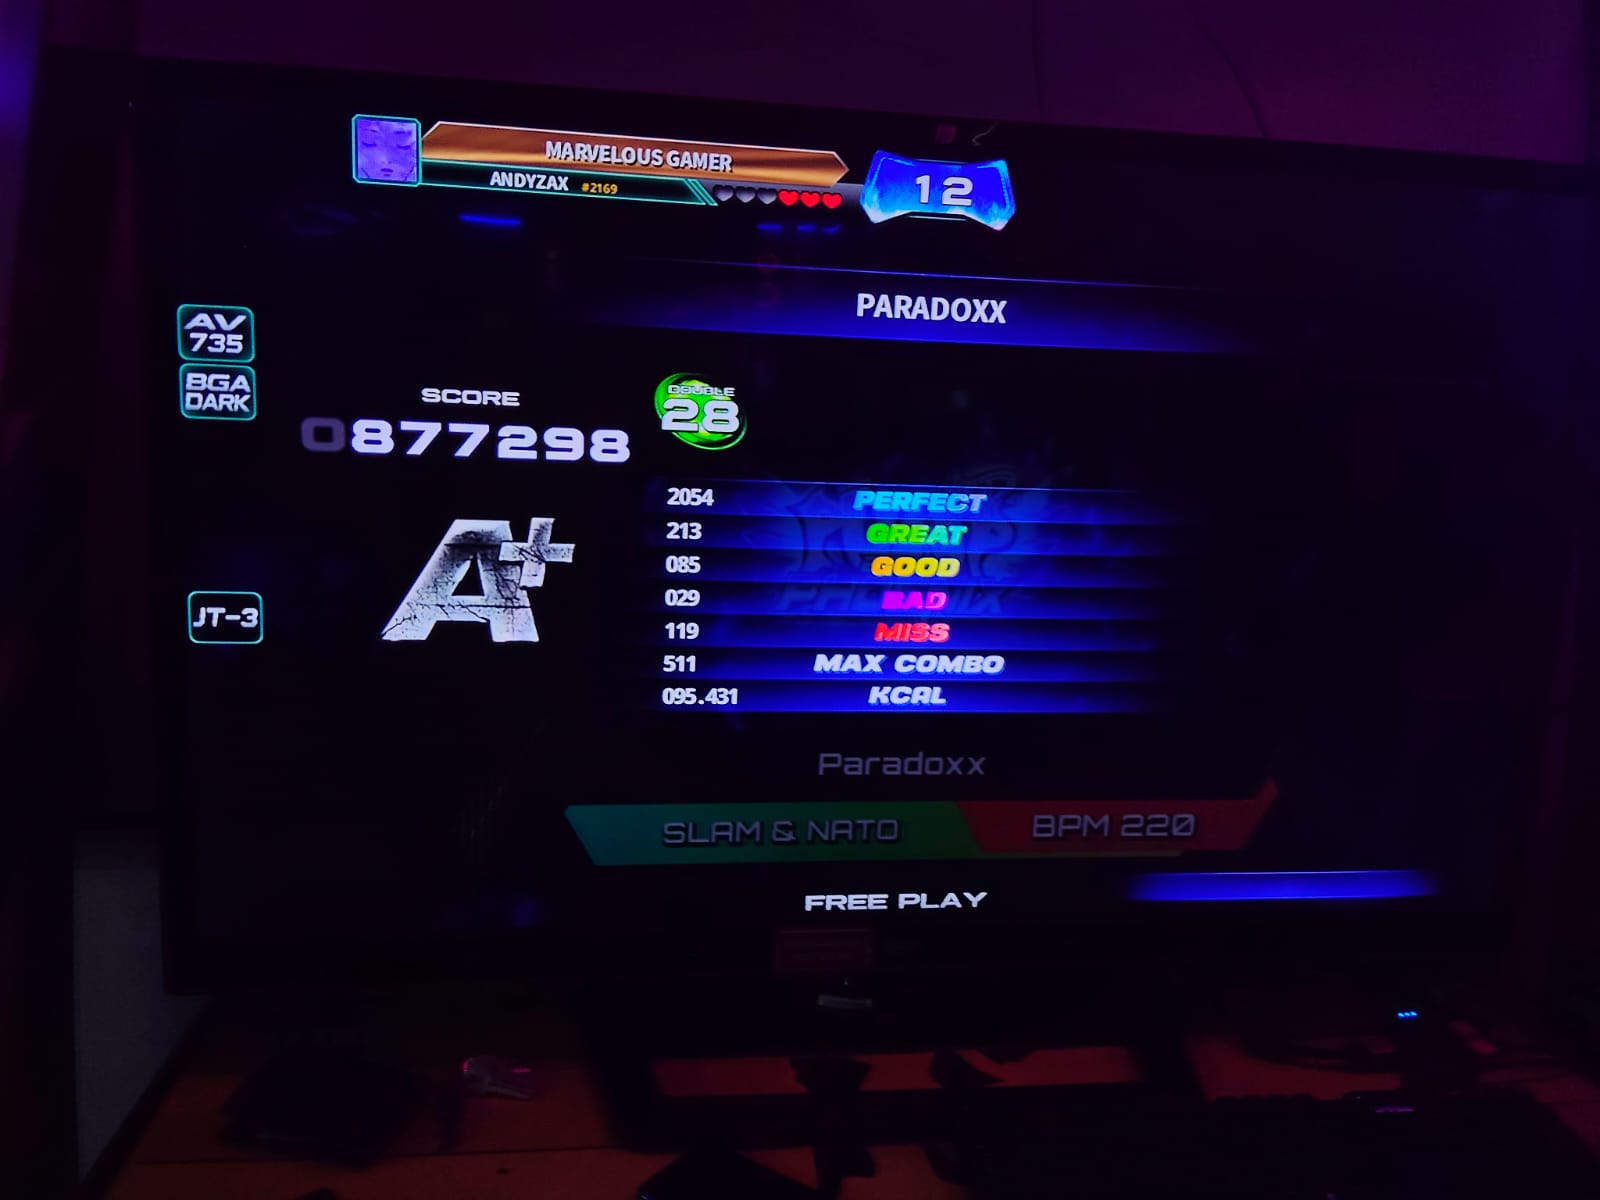difficulty: (631, 358, 779, 459)
fullscore: (82, 79, 999, 904)
rank: (355, 483, 574, 662)
score: (289, 383, 651, 465)
song_name: (588, 246, 1208, 352)
